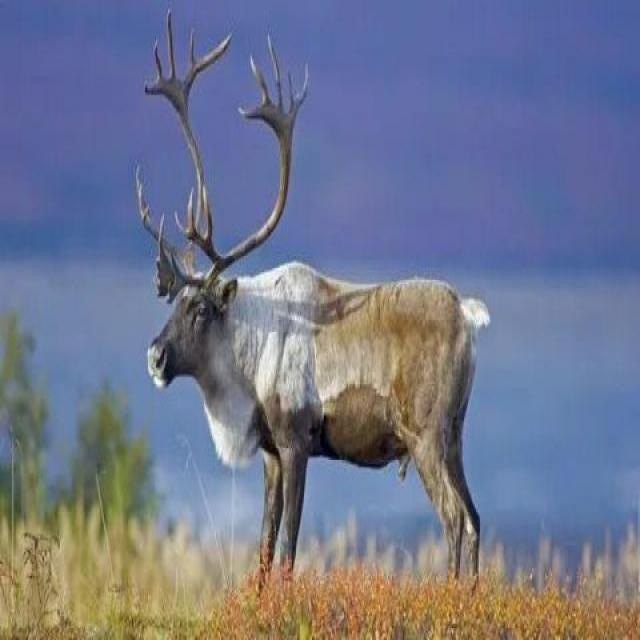deer: (93, 8, 500, 604)
